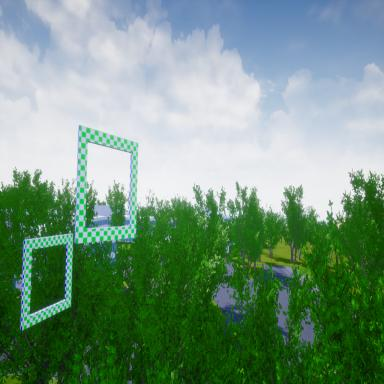gate: (74, 122, 140, 246), (20, 232, 74, 330)
